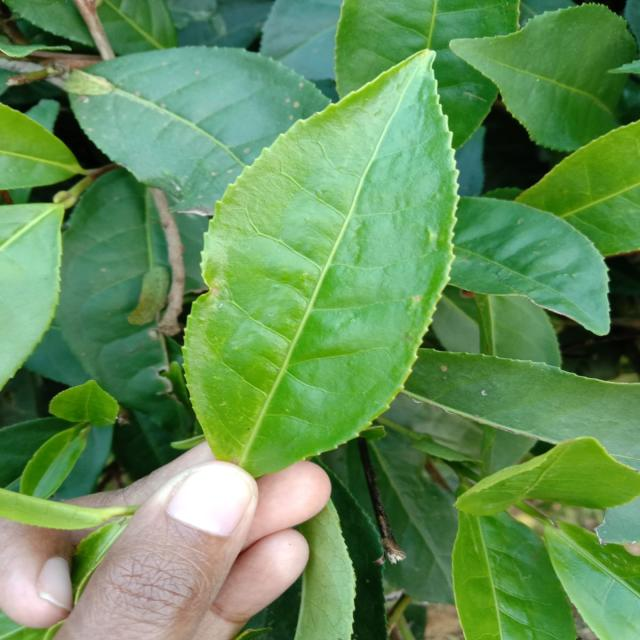Category C 4-7 days: (176, 26, 474, 501)
